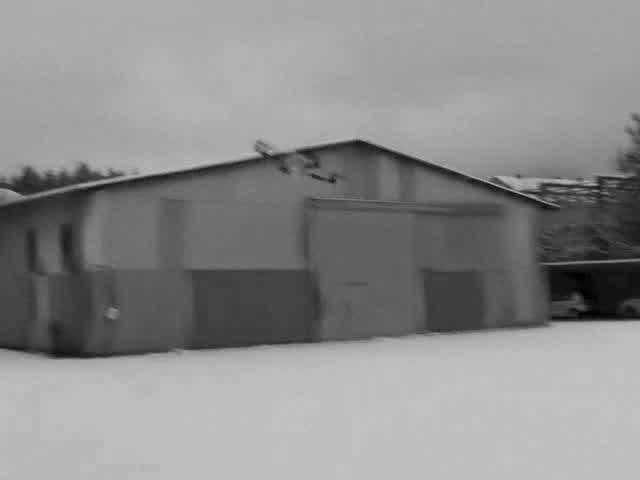drone: (238, 126, 355, 193)
